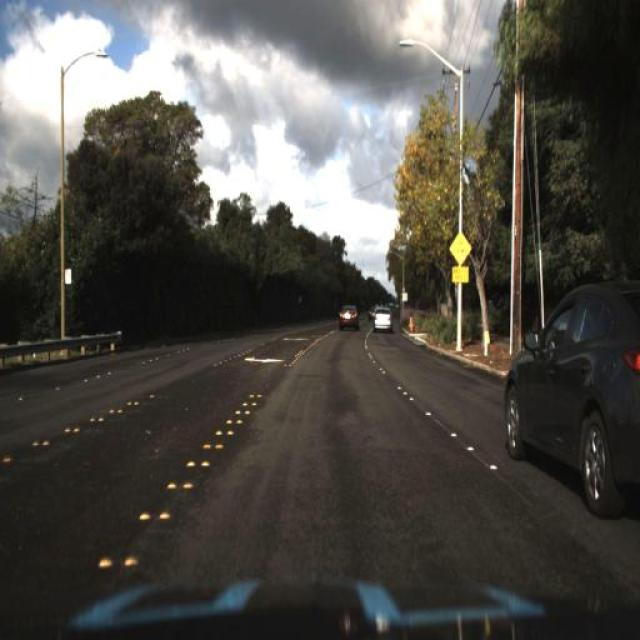car: (505, 273, 639, 527), (333, 298, 361, 338), (371, 305, 393, 336)
